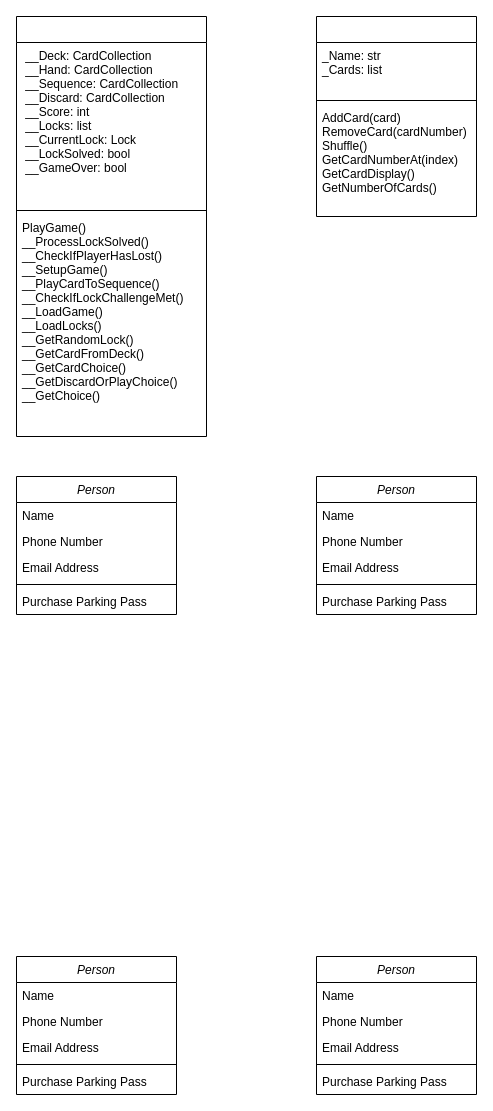
The diagram is 493 pixels wide and 1111 high, and some of its shapes have lost their labels. The box of each missing label's shape, as (x1, y1, x2, y2) in pixels:
Breakthrough: (16, 16, 206, 436)
Class CardCollection: (316, 16, 476, 216)
